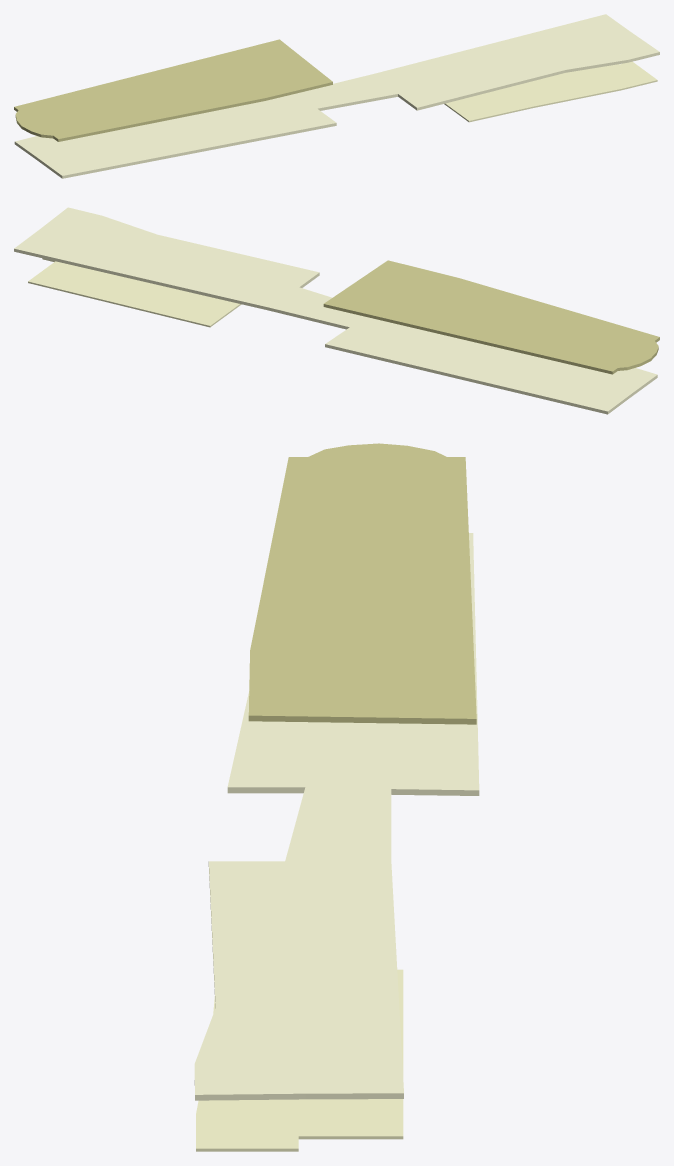
The model's file is Pisos.fbx.
3 renders of one model, top to bottom at view 1: azimuth 30°, elevation 25°; view 2: azimuth 150°, elevation 25°; view 3: azimuth 270°, elevation 25°, orthographic. The views are drawn at different scales.
Visible parts, largest first — view 1: pCube3, pCube1, pCube2; view 2: pCube3, pCube1, pCube2; view 3: pCube3, pCube1, pCube2.
Boxes of the visible parts, <box> form: pCube3: <box>14,14,659,178</box>; pCube1: <box>14,39,332,141</box>; pCube2: <box>444,61,657,122</box>; pCube3: <box>14,207,657,414</box>; pCube1: <box>323,260,659,374</box>; pCube2: <box>28,258,241,327</box>; pCube3: <box>194,533,479,1100</box>; pCube1: <box>248,443,476,724</box>; pCube2: <box>196,969,403,1151</box>.
Size of the model in its own units: 56.67 by 6.03 by 11.79.
